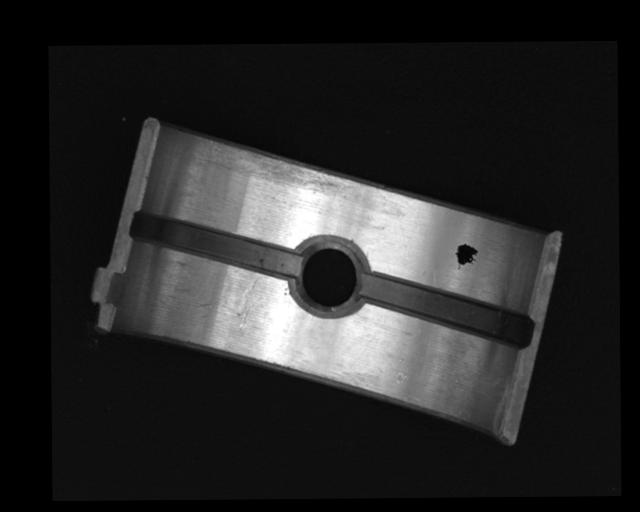blot: (453, 242, 479, 269)
bruise: (196, 300, 218, 320), (394, 370, 407, 386)
gap: (359, 270, 530, 348), (128, 210, 301, 279)
hole: (290, 233, 368, 318)
nick: (235, 272, 260, 332)
scratch: (204, 138, 356, 197)
